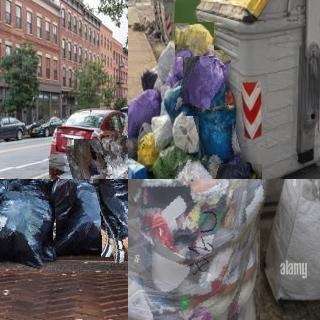Garbage: (128, 179, 274, 320), (55, 179, 124, 254), (0, 180, 57, 265), (179, 48, 229, 118), (95, 179, 128, 260), (196, 106, 239, 166), (69, 136, 128, 179), (0, 179, 59, 222), (49, 153, 115, 179), (171, 105, 205, 153), (128, 88, 159, 135), (175, 23, 214, 57), (162, 78, 190, 117), (169, 156, 215, 179), (154, 142, 182, 179), (214, 162, 263, 179), (109, 138, 128, 177), (118, 104, 128, 151)
